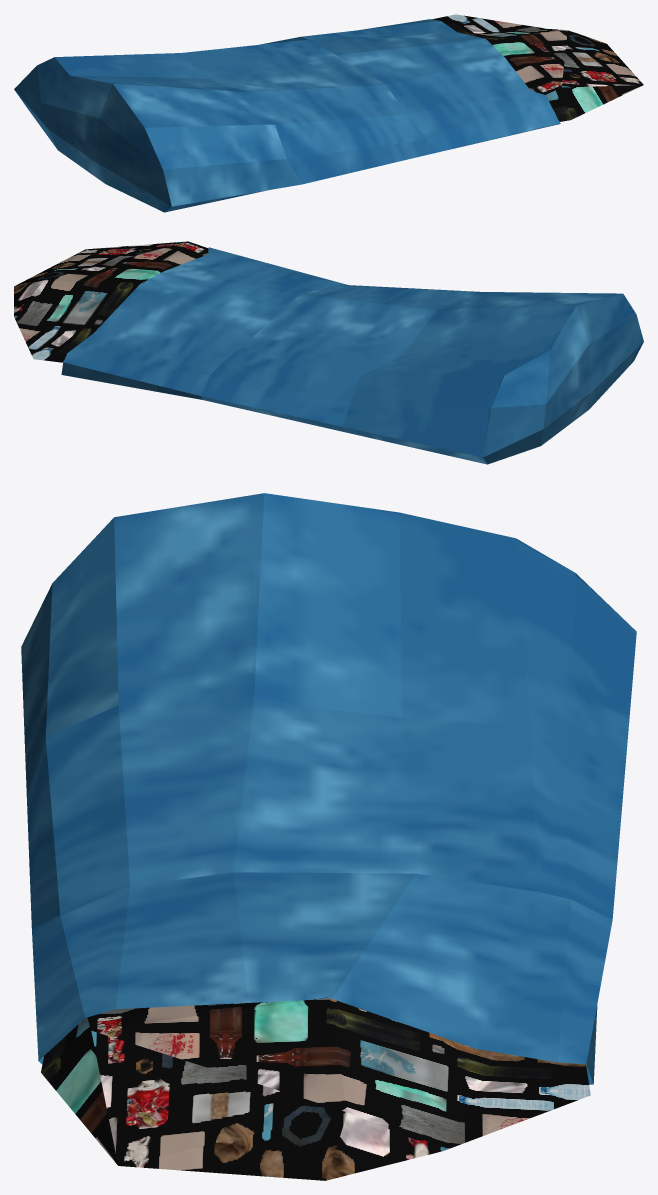
File: Urban_Trashbag3Blue_Model.fbx
3 renders of one model, top to bottom at view 1: azimuth 30°, elevation 25°; view 2: azimuth 150°, elevation 25°; view 3: azimuth 270°, elevation 25°, orthographic. The views are drawn at different scales.
Visible parts, largest first — view 1: Urban_Trashbag3Blue_Mesh; view 2: Urban_Trashbag3Blue_Mesh; view 3: Urban_Trashbag3Blue_Mesh.
Boxes of the visible parts, x1,y1,x2,y2 form: Urban_Trashbag3Blue_Mesh: (14,14,643,212); Urban_Trashbag3Blue_Mesh: (14,241,643,464); Urban_Trashbag3Blue_Mesh: (21,493,636,1180).
Bounding box in the file's own units: 1.73 × 0.3175 × 0.8694.
